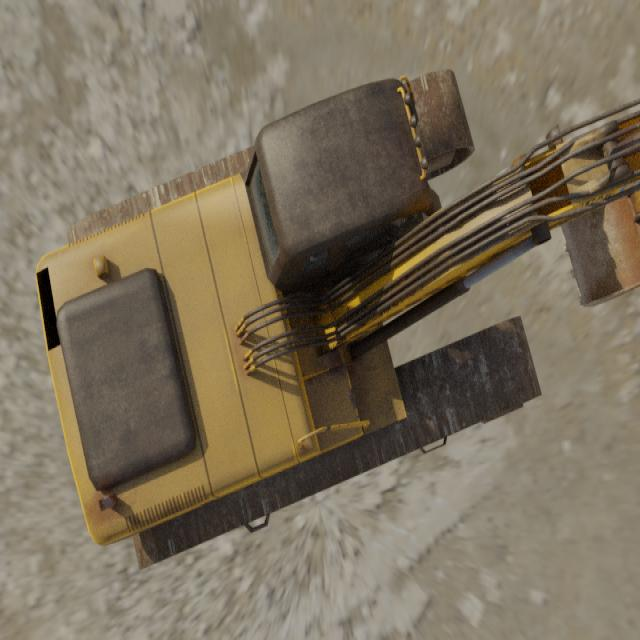excavator: (35, 68, 640, 569)
